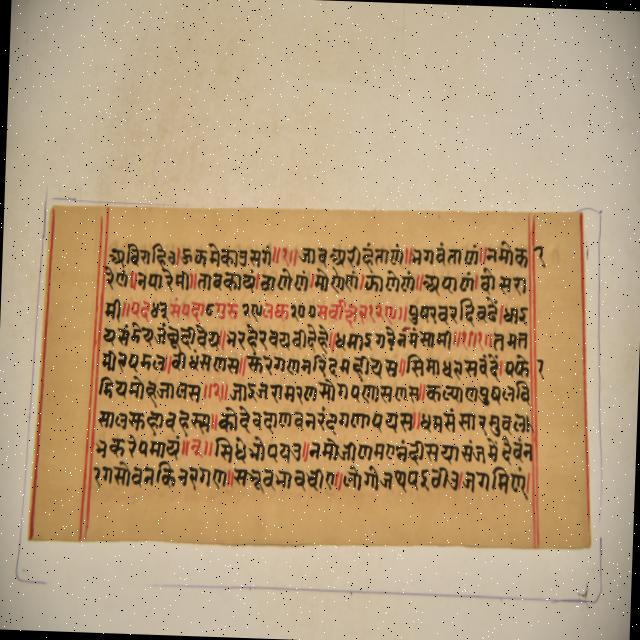text_paragraph: (26, 200, 590, 547)
